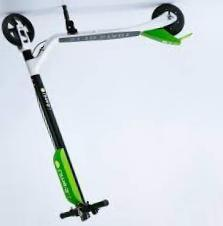scooter: (2, 3, 193, 222)
